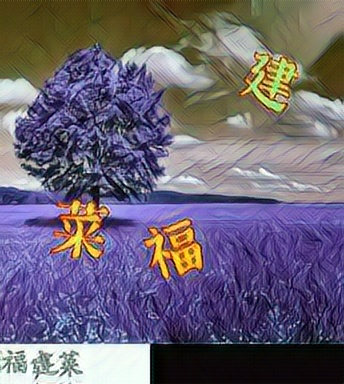B2CB: (48, 193, 111, 259)
B8A3: (142, 216, 205, 282)
BDA8: (237, 49, 300, 115)
